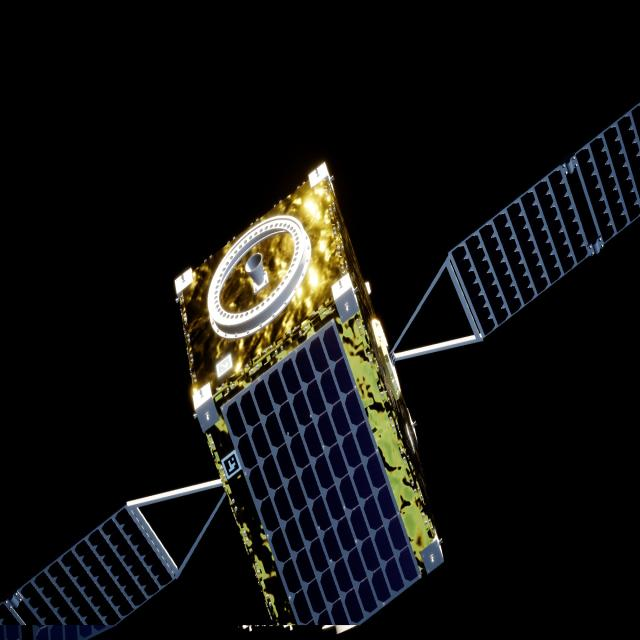medium_debris: (0, 102, 640, 640)
